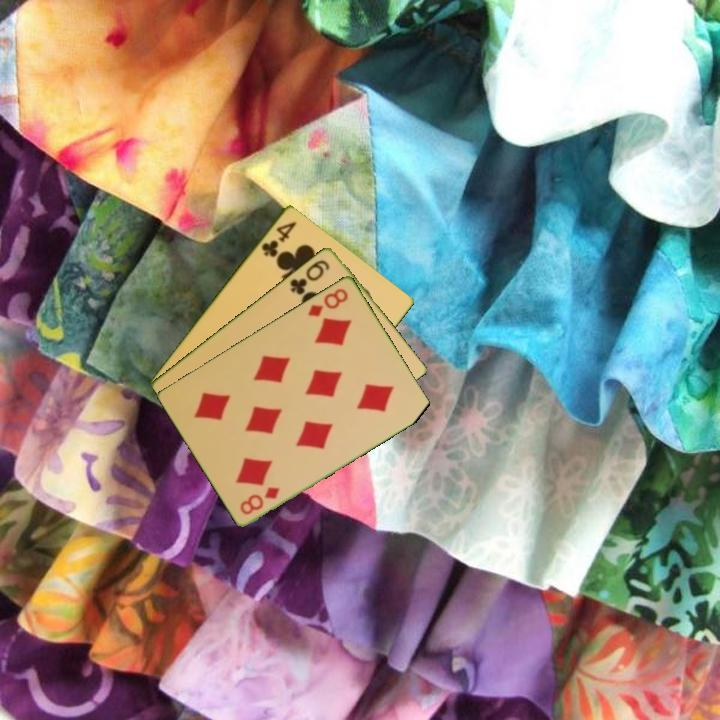4c: (258, 217, 299, 260)
6c: (286, 256, 333, 298)
8d: (304, 284, 351, 320), (236, 483, 283, 517)
